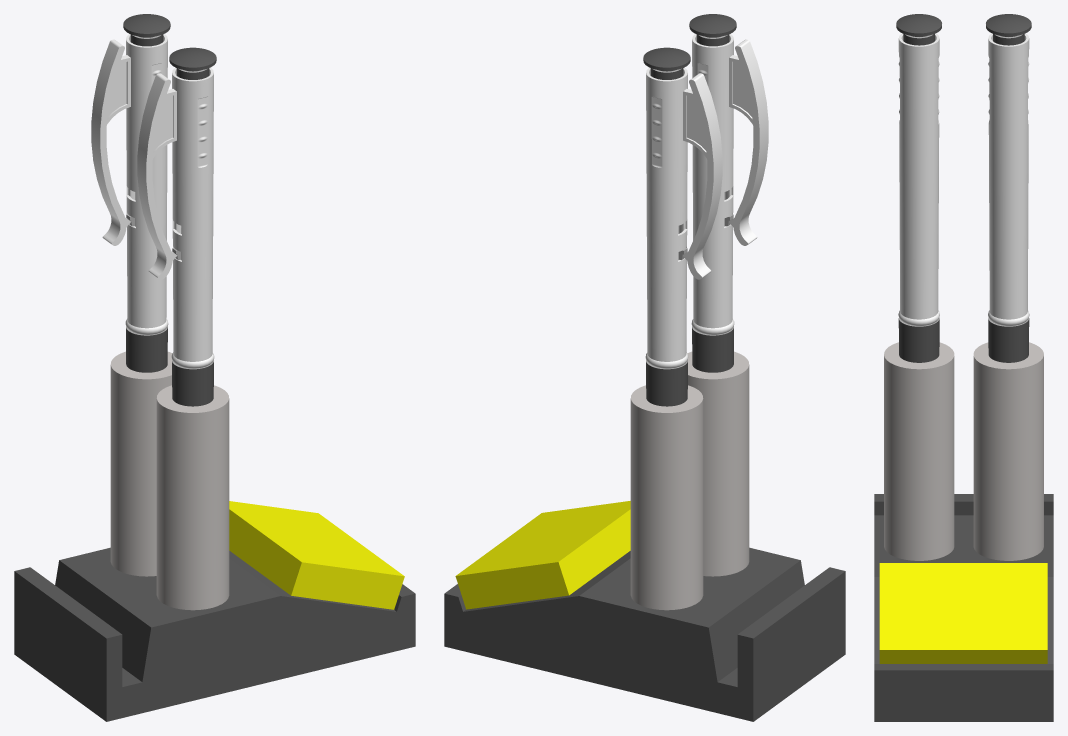
File: config12.glb
3 views of the same model, side by side, from view 1: azimuth 30°, elevation 25°; view 2: azimuth 150°, elevation 25°; view 3: azimuth 270°, elevation 25° (orthographic). The views are drawn at different scales.
Parts seen in each view (by area): view 1: Socle-2, SADC-SADC Pen_SADC 001-1 (×2), Porte stylo-2, post it-1, Porte stylo-1, SADC-SADC Pen_SADC 002-2 (×2), SADC-SADC Pen_SADC 005-1 (×2); view 2: Socle-2, SADC-SADC Pen_SADC 001-1 (×2), Porte stylo-1, post it-1, Porte stylo-2, SADC-SADC Pen_SADC 002-2 (×2), SADC-SADC Pen_SADC 005-1 (×2); view 3: SADC-SADC Pen_SADC 001-1 (×2), post it-1, Socle-2, Porte stylo-1, Porte stylo-2, SADC-SADC Pen_SADC 002-2 (×2), SADC-SADC Pen_SADC 005-1 (×2).
Boxes of the visible parts, x1=… form: Socle-2: x1=14, y1=547, x2=415, y2=721; SADC-SADC Pen_SADC 001-1 (×2): x1=91, y1=34, x2=214, y2=368; Porte stylo-2: x1=156, y1=385, x2=229, y2=610; post it-1: x1=229, y1=501, x2=404, y2=609; Porte stylo-1: x1=110, y1=351, x2=172, y2=576; SADC-SADC Pen_SADC 002-2 (×2): x1=126, y1=326, x2=213, y2=406; SADC-SADC Pen_SADC 005-1 (×2): x1=123, y1=14, x2=216, y2=259; Socle-2: x1=444, y1=547, x2=845, y2=721; SADC-SADC Pen_SADC 001-1 (×2): x1=645, y1=34, x2=768, y2=368; Porte stylo-1: x1=630, y1=385, x2=703, y2=610; post it-1: x1=455, y1=501, x2=630, y2=609; Porte stylo-2: x1=687, y1=351, x2=749, y2=576; SADC-SADC Pen_SADC 002-2 (×2): x1=646, y1=326, x2=733, y2=406; SADC-SADC Pen_SADC 005-1 (×2): x1=643, y1=14, x2=736, y2=260; SADC-SADC Pen_SADC 001-1 (×2): x1=898, y1=33, x2=1029, y2=325; post it-1: x1=879, y1=563, x2=1047, y2=663; Socle-2: x1=874, y1=494, x2=1053, y2=721; Porte stylo-1: x1=973, y1=342, x2=1043, y2=560; Porte stylo-2: x1=884, y1=342, x2=954, y2=560; SADC-SADC Pen_SADC 002-2 (×2): x1=898, y1=317, x2=1029, y2=362; SADC-SADC Pen_SADC 005-1 (×2): x1=896, y1=14, x2=1031, y2=45.
Bounding box in the file's own units: 0.0984 × 0.1899 × 0.0508.
